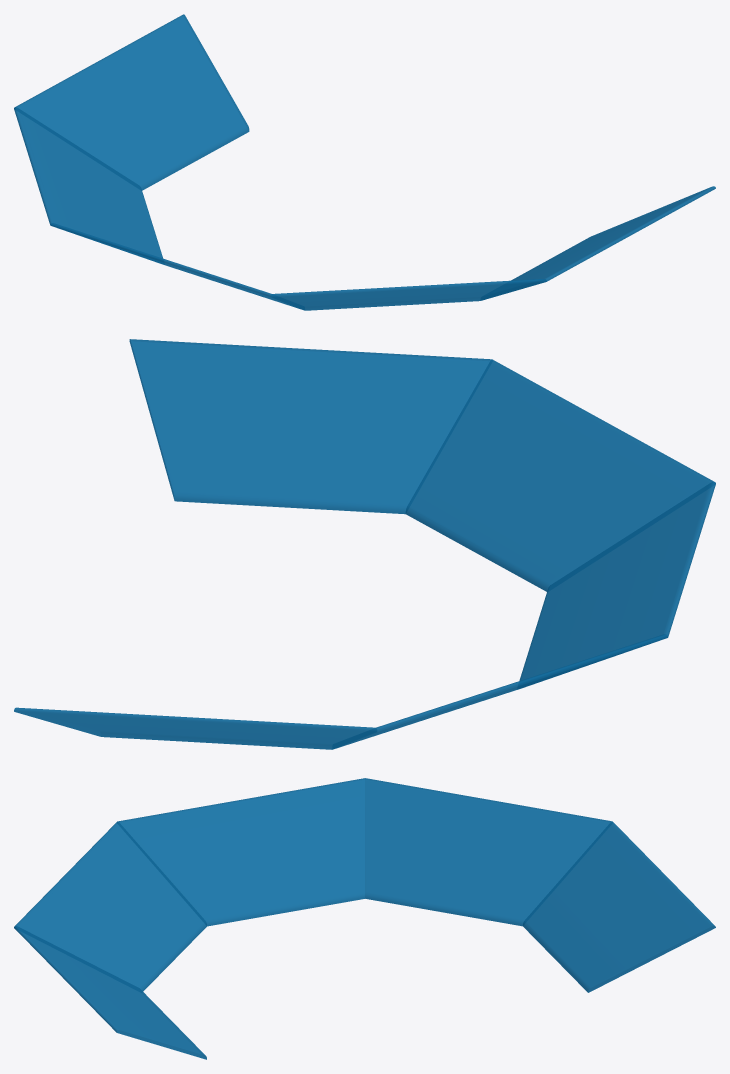
Rendered from Belt_menu2_seperated.FBX.
3 renders of one model, top to bottom at view 1: azimuth 30°, elevation 25°; view 2: azimuth 150°, elevation 25°; view 3: azimuth 270°, elevation 25°, orthographic. The views are drawn at different scales.
Visible parts, largest first — view 1: Torus001, Object001, Object004, Object003, Object002; view 2: Object003, Object004, Object002, Torus001, Object001; view 3: Object002, Object001, Torus001, Object004, Object003.
Part boxes in pixels (<box>): Torus001: <box>14,14,249,190</box>; Object001: <box>14,107,163,261</box>; Object004: <box>271,279,546,310</box>; Object003: <box>501,186,715,294</box>; Object002: <box>50,223,304,309</box>; Object003: <box>129,339,492,514</box>; Object004: <box>405,359,713,591</box>; Object002: <box>519,481,715,688</box>; Torus001: <box>14,707,377,749</box>; Object001: <box>335,634,667,748</box>; Object002: <box>117,778,364,926</box>; Object001: <box>365,778,611,926</box>; Torus001: <box>523,821,715,992</box>; Object004: <box>14,821,206,992</box>; Object003: <box>14,926,206,1059</box>.
Size of the model in its own units: 44.19 by 5.49 by 51.77.
